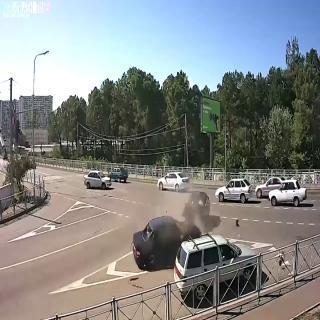multiple_accident: (132, 200, 229, 261)
